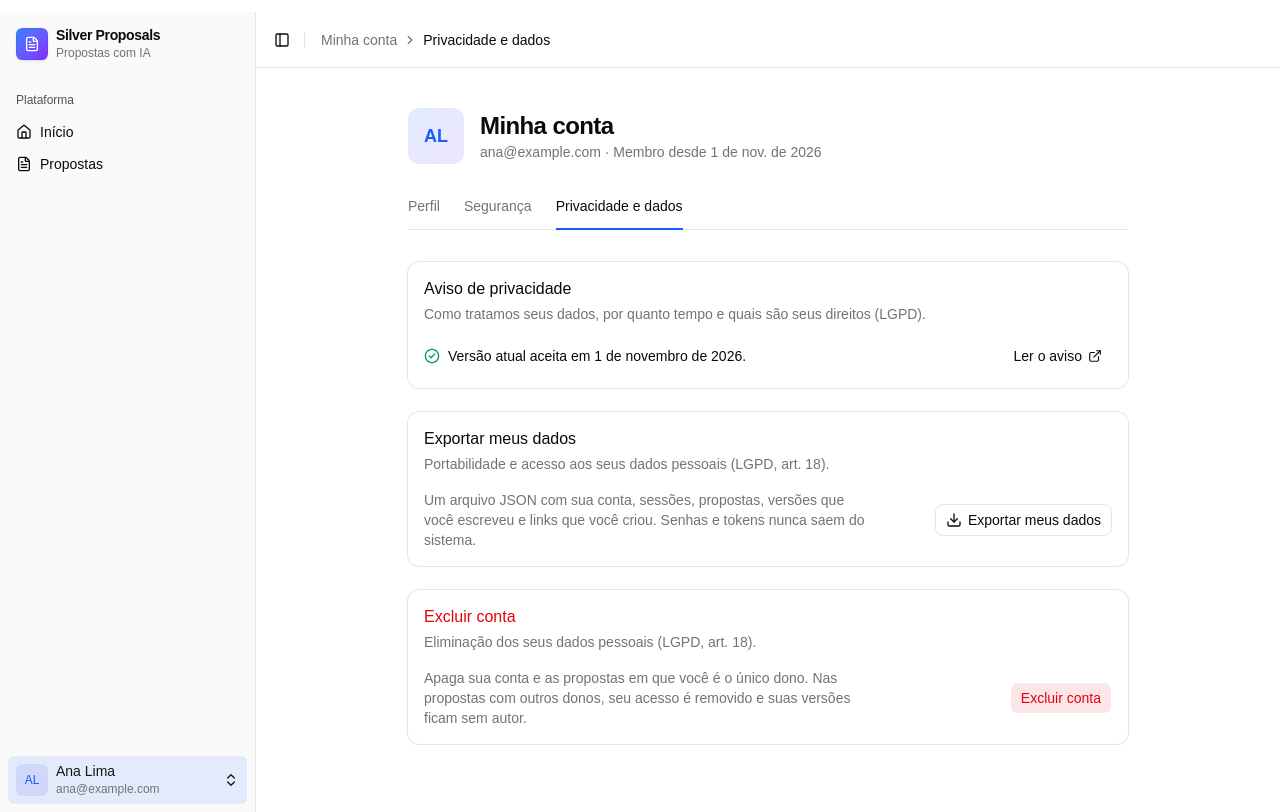
DataPage › downloads the exported data as a file
What coordinates should you click on to do the following:
click the button "Exportar meus dados"
I would click on:
 (1023, 520)
Its box is [935,504,1112,536].
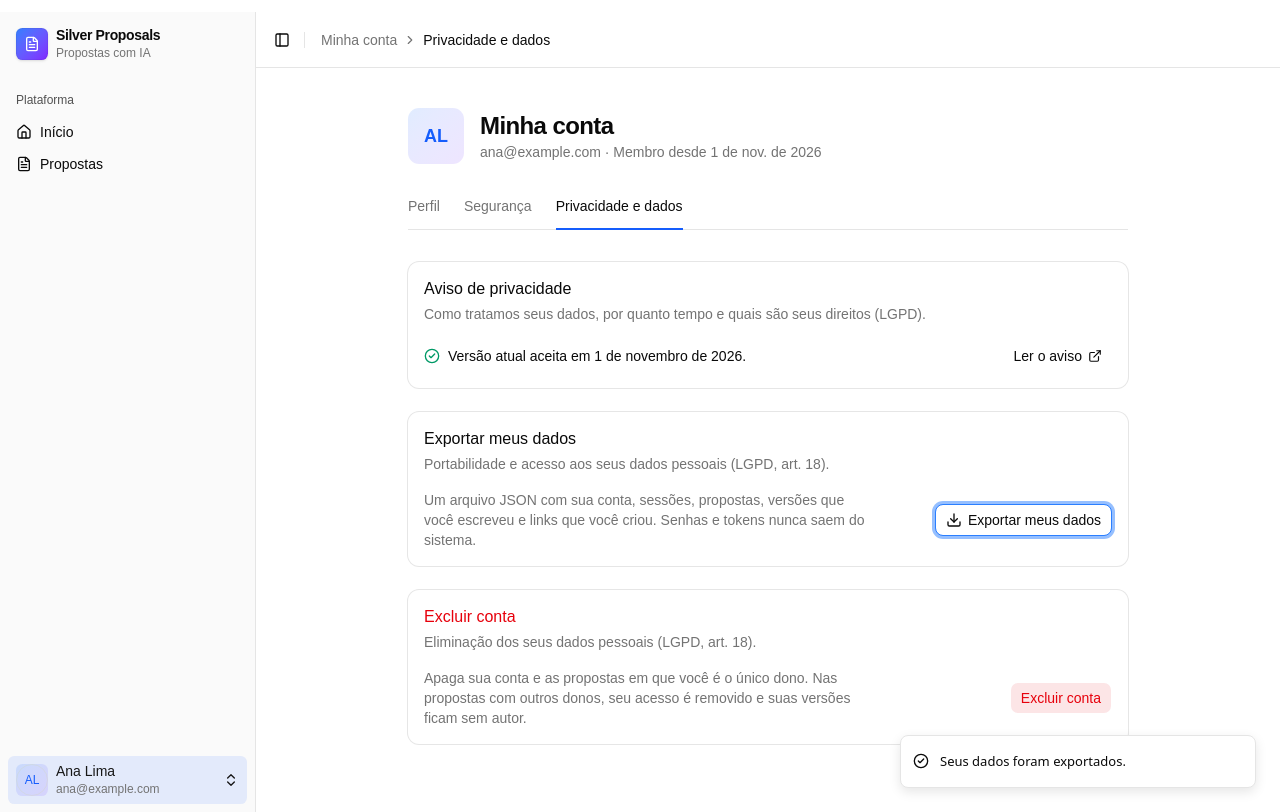
Result: the text "Seus dados foram exportados." is shown at [940,752,1126,771]
